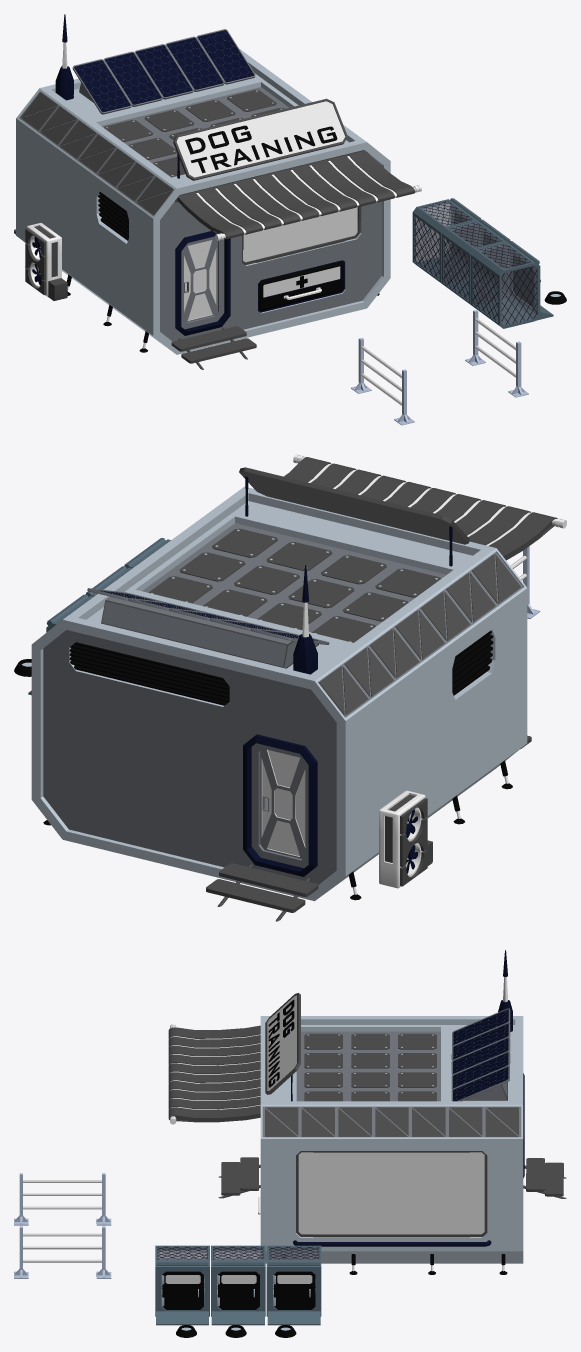
File: Training level 1 Legit.fbx
3 renders of one model, top to bottom at view 1: azimuth 30°, elevation 25°; view 2: azimuth 150°, elevation 25°; view 3: azimuth 270°, elevation 25°, orthographic. The views are drawn at different scales.
Parts seen in each view (by area): view 1: main.021, main.001; view 2: main.021, main.001; view 3: main.021, main.001.
Part boxes in pixels (x1,y1,x2,y2): main.021: (14,14,421,369); main.001: (351,198,566,425); main.021: (31,454,566,921); main.001: (14,538,540,695); main.021: (168,950,566,1274); main.001: (14,1173,321,1337).
Bounding box in the file's own units: 877 × 522 × 1126.
